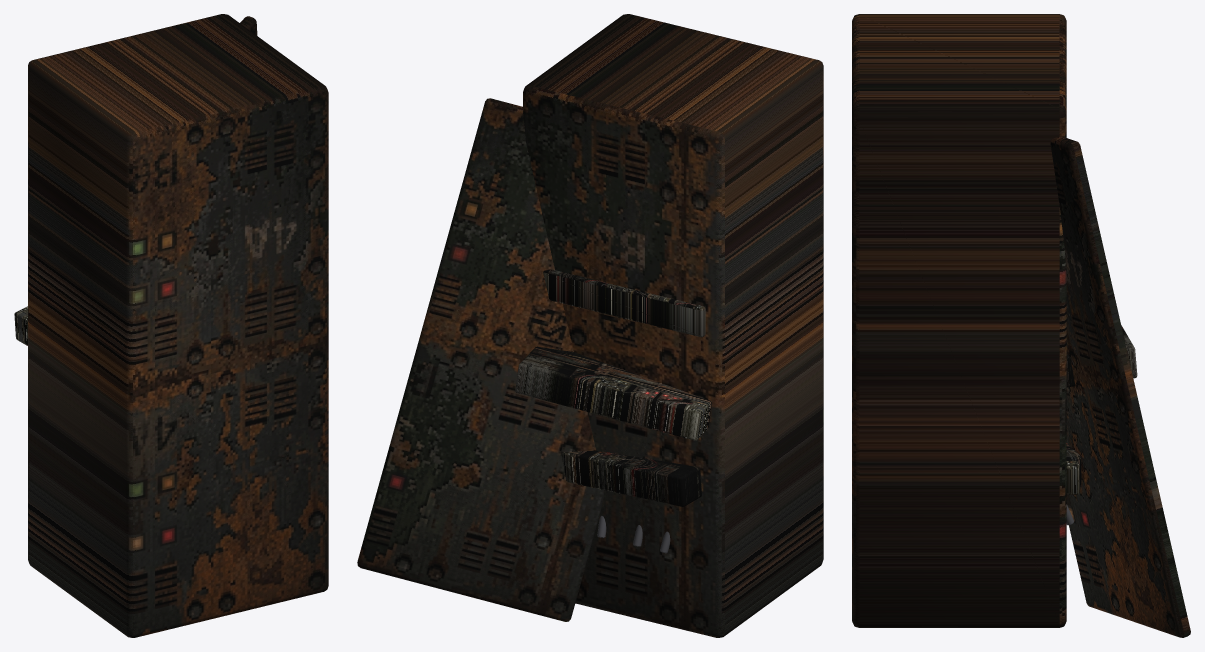
Rendered from broken_server_rack.glb.
3 views of the same model, side by side, from view 1: azimuth 30°, elevation 25°; view 2: azimuth 150°, elevation 25°; view 3: azimuth 270°, elevation 25° (orthographic). The views are drawn at different scales.
Visible parts, largest first — view 1: BrokenServerRack; view 2: BrokenServerRack; view 3: BrokenServerRack.
Part boxes in pixels (x1=…): BrokenServerRack: x1=14, y1=14, x2=328, y2=637; BrokenServerRack: x1=357, y1=14, x2=823, y2=637; BrokenServerRack: x1=852, y1=14, x2=1190, y2=637.
Bounding box in the file's own units: 1.52 × 2.42 × 1.42.
Materials: 6 (2 with a texture image).
